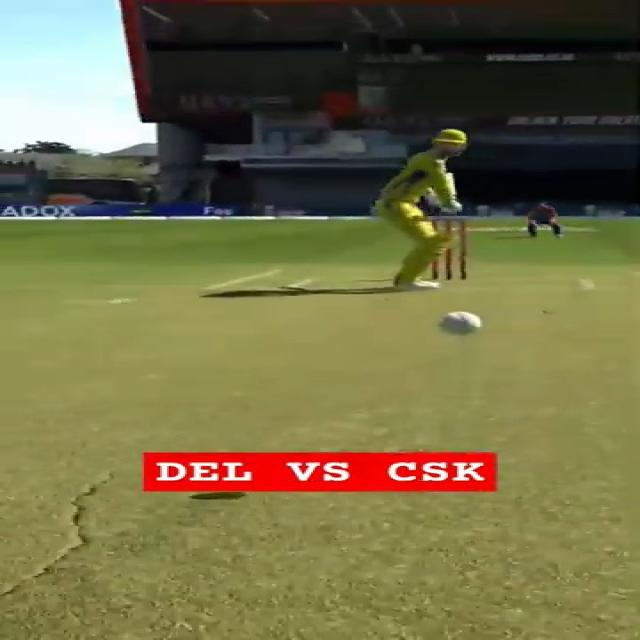ball: (434, 311, 484, 336)
